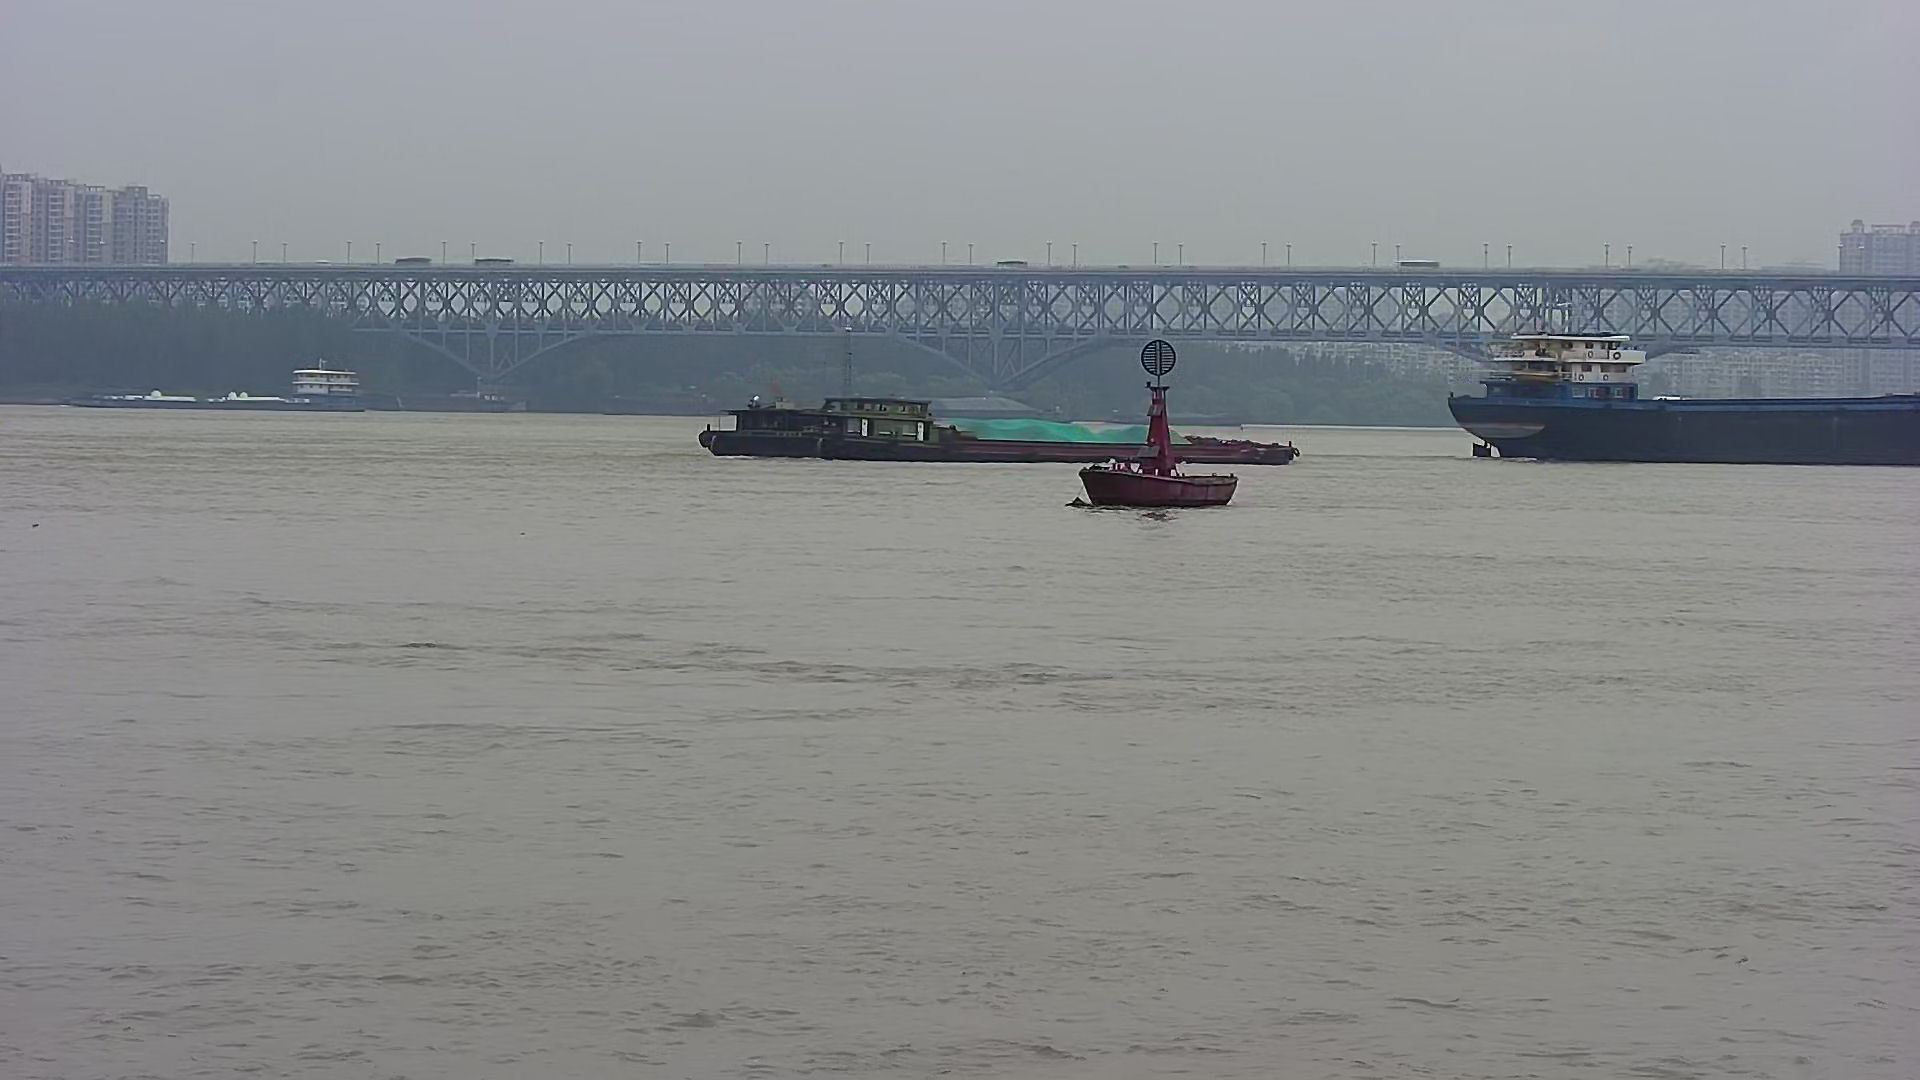boat: (1069, 335, 1250, 520)
bridge: (9, 247, 1920, 419)
ship: (1448, 318, 1919, 473), (663, 376, 1323, 484), (58, 355, 398, 422)
